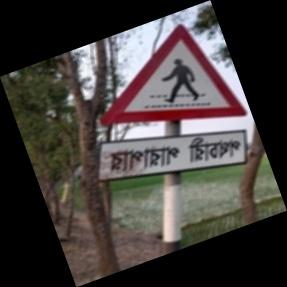Pedestrian-crossing: (99, 22, 252, 185)
